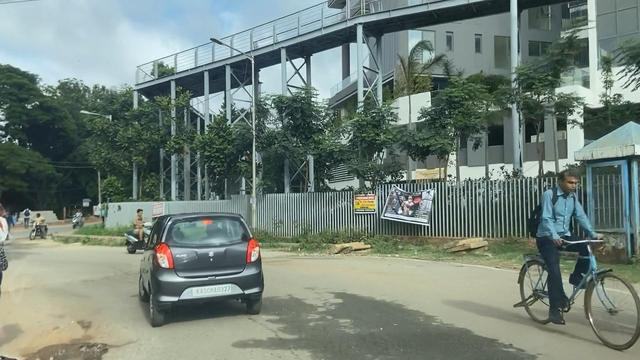LMV: (521, 177, 636, 345), (140, 215, 260, 315)
RoadDamages: (17, 319, 140, 360)
